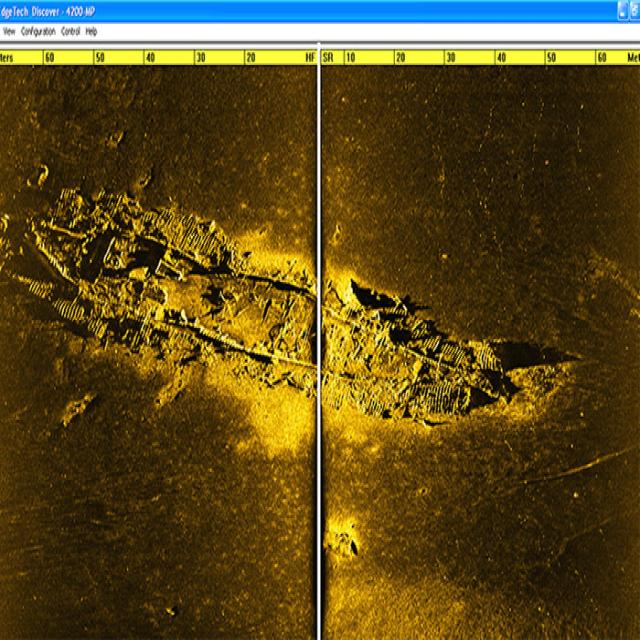ship: (18, 176, 578, 432)
